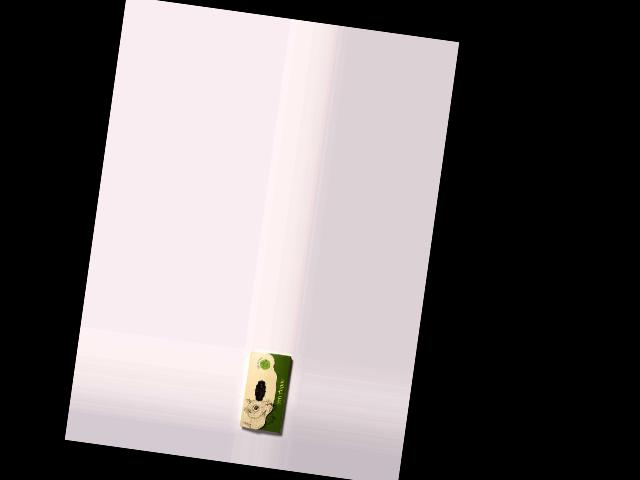chocolate: (238, 349, 292, 434)
